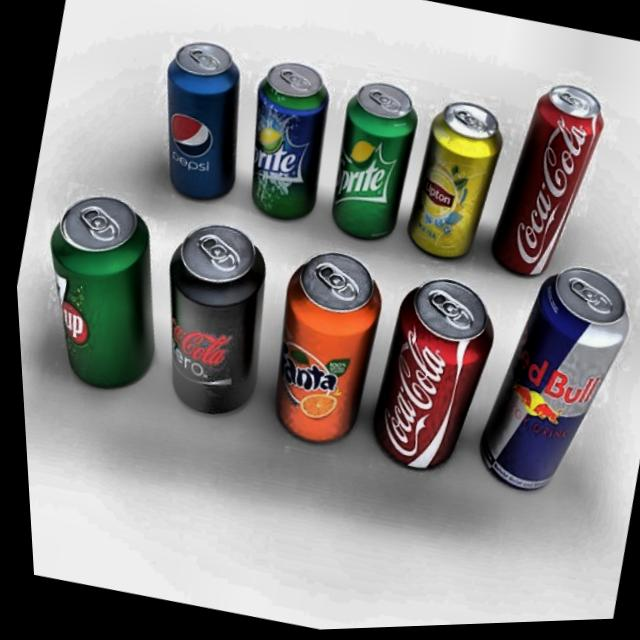Cans: (458, 256, 640, 511), (15, 185, 184, 401), (244, 234, 402, 465), (349, 268, 503, 502), (133, 214, 286, 428), (478, 80, 614, 293), (130, 20, 270, 222), (307, 63, 434, 256), (225, 50, 344, 239), (396, 93, 514, 275)
